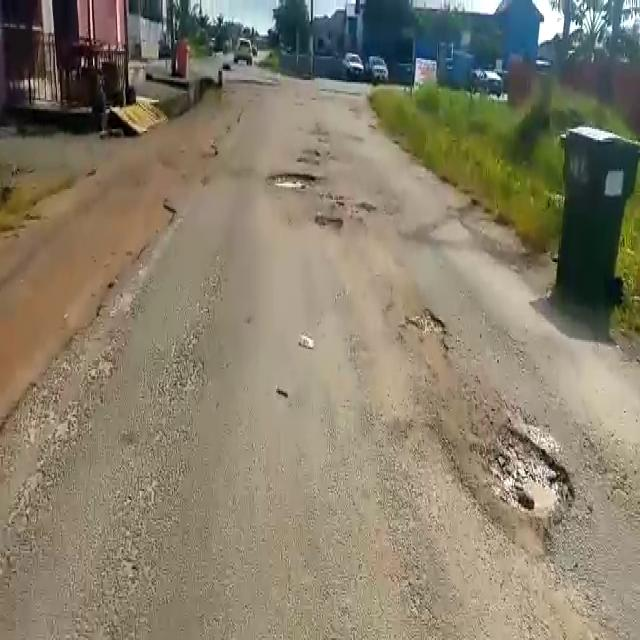Pothole: (476, 412, 579, 527), (397, 310, 449, 361), (266, 171, 318, 190), (313, 212, 349, 229)
